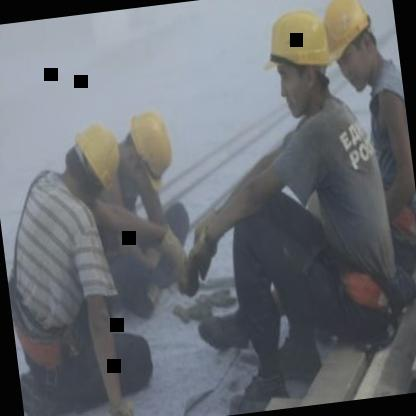helmet: (259, 0, 347, 121), (313, 0, 386, 96), (115, 100, 180, 193), (62, 110, 126, 200)
